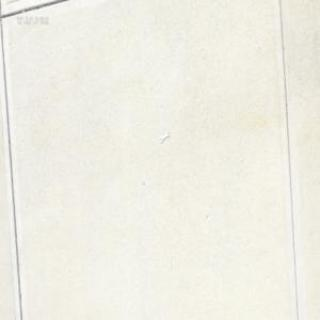Wrenchtrack_idkeyframe: (160, 130, 169, 142)
